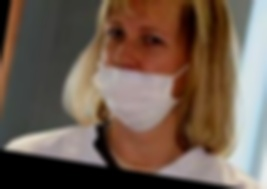mask_weared_incorrect: (93, 1, 191, 127)
